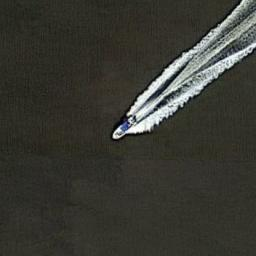boat: (109, 106, 145, 142)
